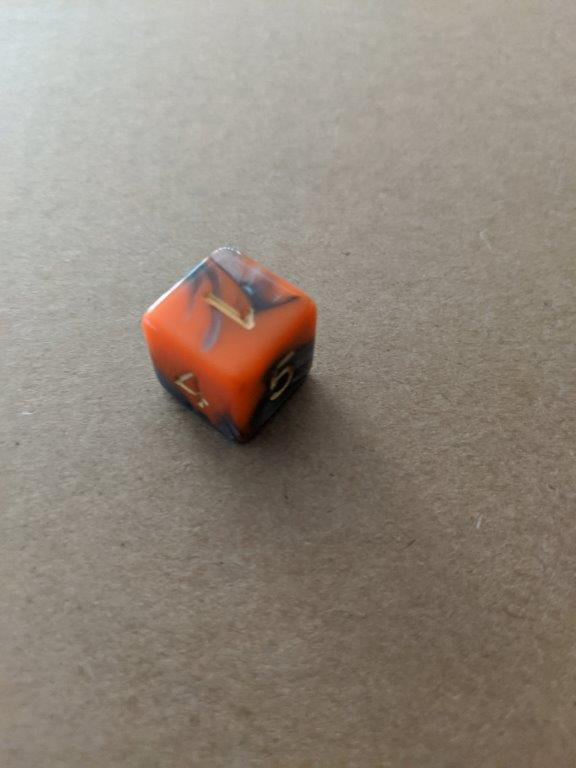d6-1: (141, 244, 320, 448)
